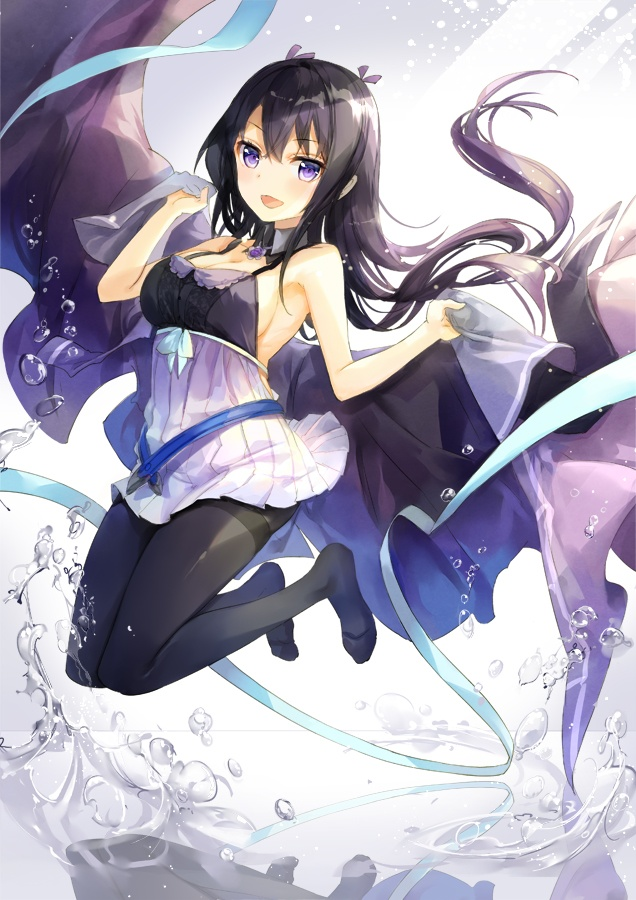纸片人正脸: (199, 48, 390, 235)
